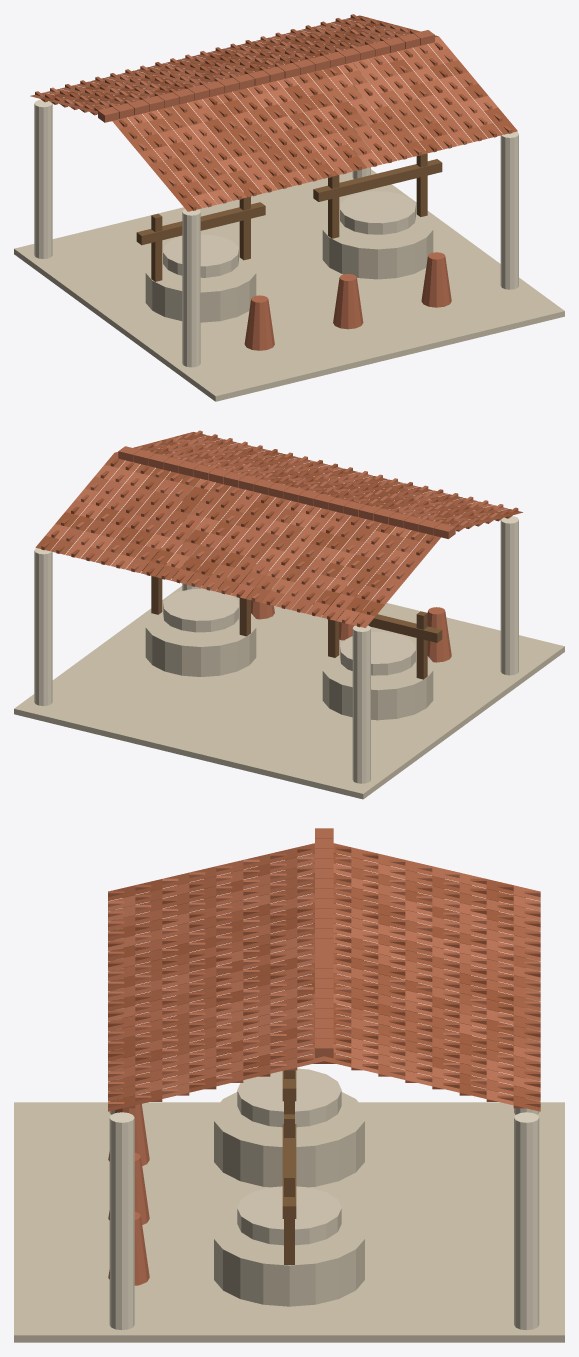
3 renders of one model, top to bottom at view 1: azimuth 30°, elevation 25°; view 2: azimuth 150°, elevation 25°; view 3: azimuth 270°, elevation 25°, orthographic. The views are drawn at different scales.
Parts seen in each view (by area): view 1: Bergfried – Steine, Säulen, Ziegel und Feuerstelle; view 2: Bergfried – Steine, Säulen, Ziegel und Feuerstelle; view 3: Bergfried – Steine, Säulen, Ziegel und Feuerstelle.
Boxes of the visible parts, x1,y1,x2,y2 form: Bergfried – Steine, Säulen, Ziegel und Feuerstelle: [14, 14, 564, 401]; Bergfried – Steine, Säulen, Ziegel und Feuerstelle: [14, 430, 564, 799]; Bergfried – Steine, Säulen, Ziegel und Feuerstelle: [14, 828, 564, 1342].
Size of the model in its own units: 792 by 445 by 790.
